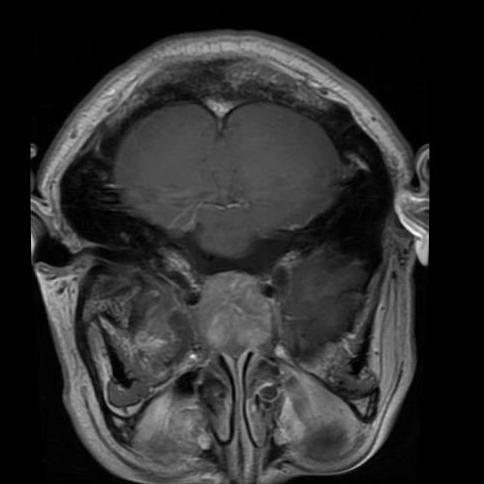Tumour-Pituitary: (188, 273, 280, 360)
